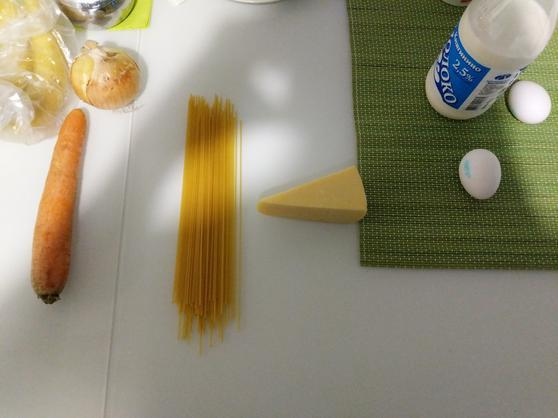carrot: (19, 103, 98, 308)
cheese: (252, 163, 377, 230)
egg: (455, 146, 505, 203), (503, 73, 555, 124)
milk: (421, 4, 524, 124)
onion: (64, 38, 149, 110)
spaghetti: (169, 77, 256, 358)
